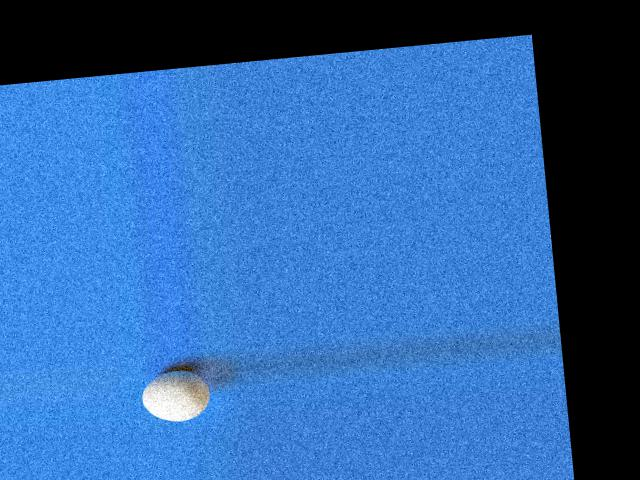egg: (139, 367, 213, 424)
